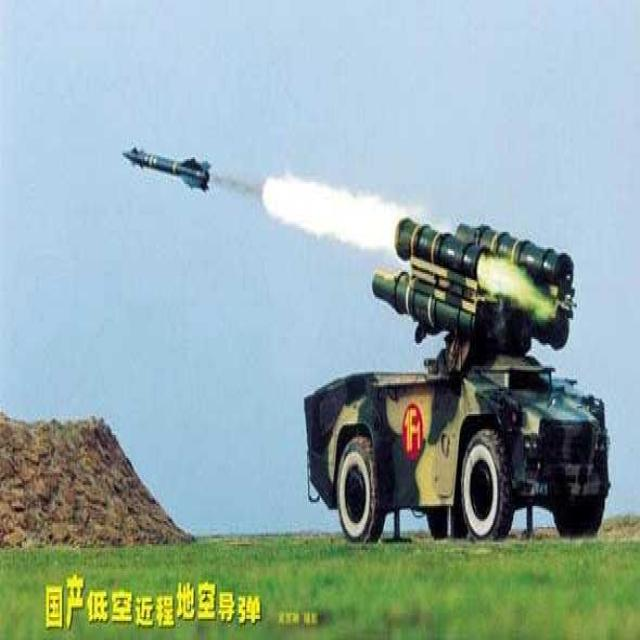missile: (123, 138, 211, 199)
